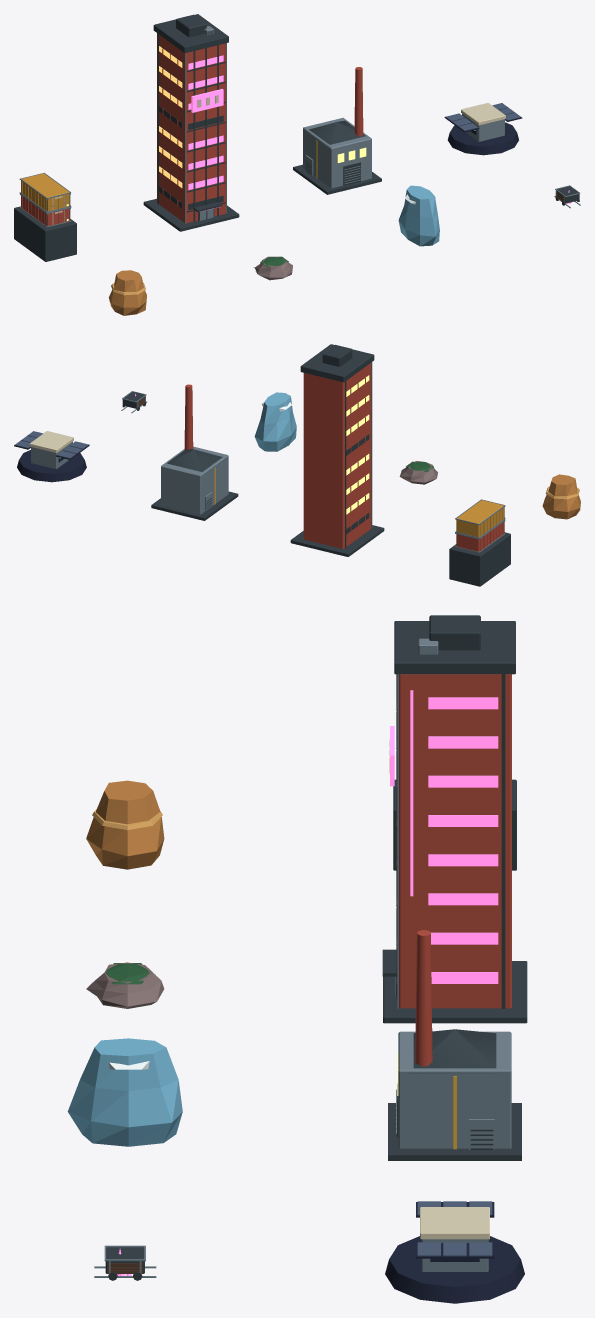
File: scene-props.glb
The picture shows the model from 3 angles, top to bottom: view 1: azimuth 30°, elevation 25°; view 2: azimuth 150°, elevation 25°; view 3: azimuth 270°, elevation 25°; orthographic projection. The views are drawn at different scales.
Parts seen in each view (by area): view 1: city-part-002, factory-part-002, harbor-part-077, ice-part-001, desert-part-001, space-part-001, city-part-007, harbor-part-039, city-part-001, factory-part-003, factory-part-001, space-part-003 (+7 smaller); view 2: city-part-002, factory-part-002, harbor-part-077, ice-part-001, city-part-007, desert-part-001, space-part-001, harbor-part-039, city-part-001, factory-part-003, factory-part-001, space-part-003 (+7 smaller); view 3: city-part-002, ice-part-001, factory-part-002, space-part-001, desert-part-001, city-part-007, city-part-001, factory-part-003, factory-part-001, space-part-003, factory-part-004, forest-part-001 (+9 smaller).
Boxes of the visible parts, x1,y1,x2,y2 form: city-part-002: (157, 33, 225, 223); factory-part-002: (303, 117, 371, 188); harbor-part-077: (14, 206, 76, 261); ice-part-001: (398, 185, 439, 246); desert-part-001: (108, 270, 146, 315); space-part-001: (447, 122, 518, 155); city-part-007: (153, 14, 228, 52); harbor-part-039: (21, 173, 69, 211); city-part-001: (143, 198, 239, 231); factory-part-003: (309, 120, 365, 145); factory-part-001: (293, 164, 381, 194); space-part-003: (461, 103, 505, 125); city-part-002: (303, 363, 371, 548); factory-part-002: (161, 446, 228, 514); harbor-part-077: (449, 532, 510, 586); ice-part-001: (254, 392, 296, 451); city-part-007: (300, 344, 374, 382); desert-part-001: (542, 474, 580, 519); space-part-001: (17, 450, 86, 482); harbor-part-039: (456, 500, 504, 537); city-part-001: (290, 525, 384, 556); factory-part-003: (167, 449, 225, 473); factory-part-001: (151, 491, 238, 520); space-part-003: (29, 431, 73, 452); city-part-002: (399, 674, 511, 1008); ice-part-001: (67, 1038, 182, 1146); factory-part-002: (398, 1031, 511, 1148); space-part-001: (385, 1236, 524, 1303); desert-part-001: (86, 780, 164, 869); city-part-007: (394, 621, 515, 674); city-part-001: (383, 961, 527, 1023); factory-part-003: (408, 1029, 501, 1073); factory-part-001: (388, 1103, 521, 1160); space-part-003: (420, 1207, 489, 1239); factory-part-004: (415, 930, 432, 1066); forest-part-001: (86, 962, 164, 1008).
Size of the model in its own units: 107 by 39.83 by 44.6.
